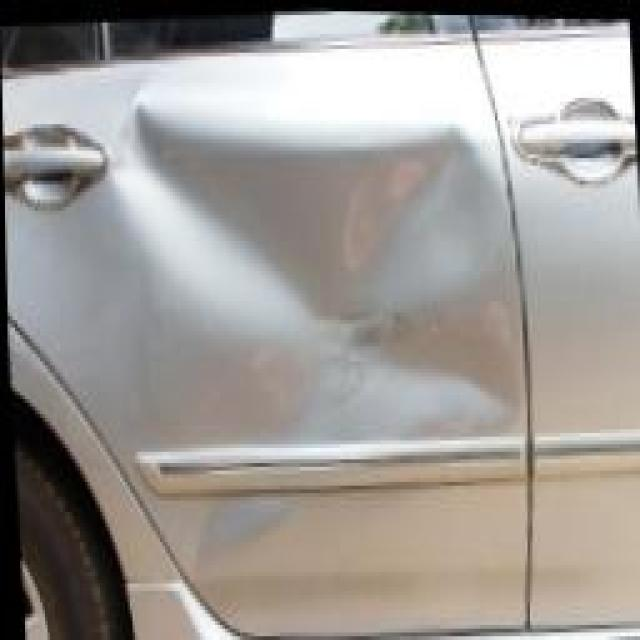Door: (85, 30, 528, 640)
